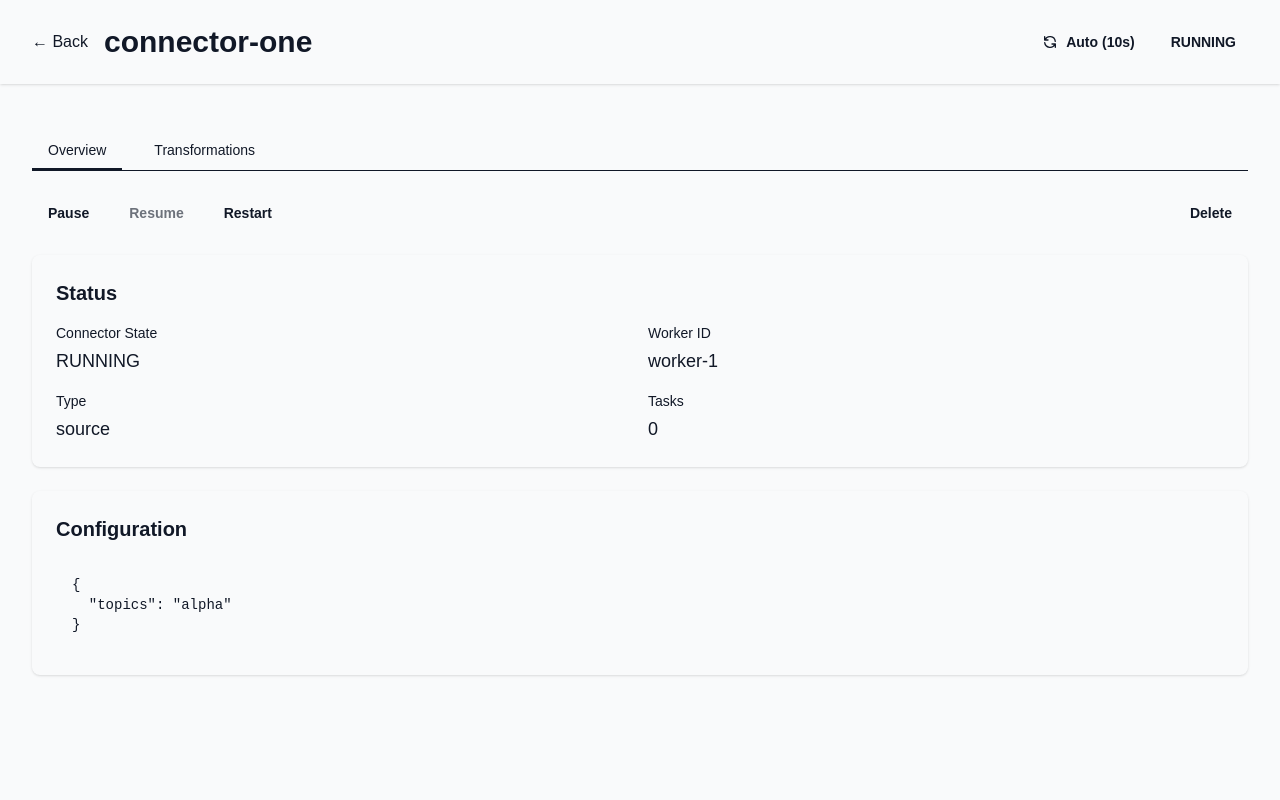
Test: ConnectorDetail page › schedules a refresh after successful actions
Expected: the text "Connector State" is shown, [56,325,157,341]
Step 1. Click the button "Pause" → [69, 213], box [32,195,105,231]
Wait 1000 ms
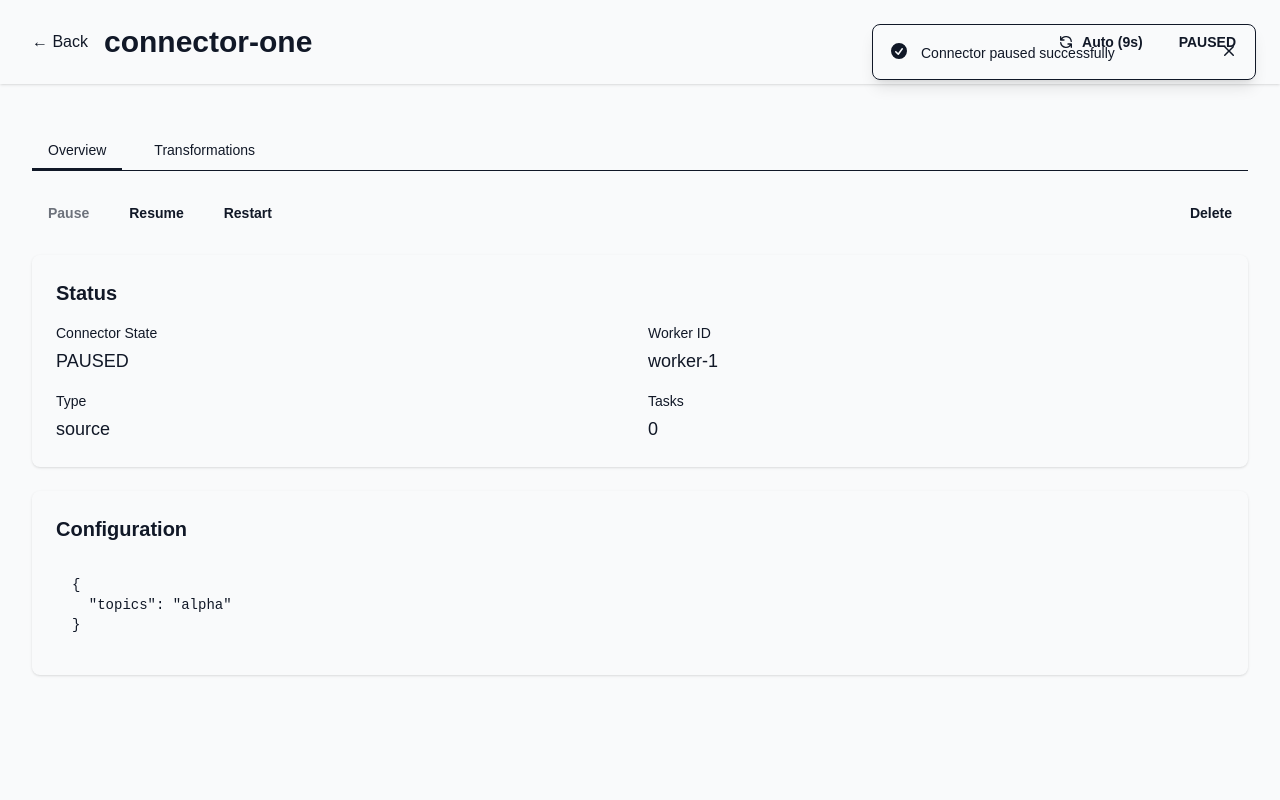
Expected: the text "PAUSED" in the row of "connector-one" is shown, [1179,34,1236,50]
Step 2. Click the button "Restart" → [248, 213], box [208,195,288,231]
Wait 1000 ms
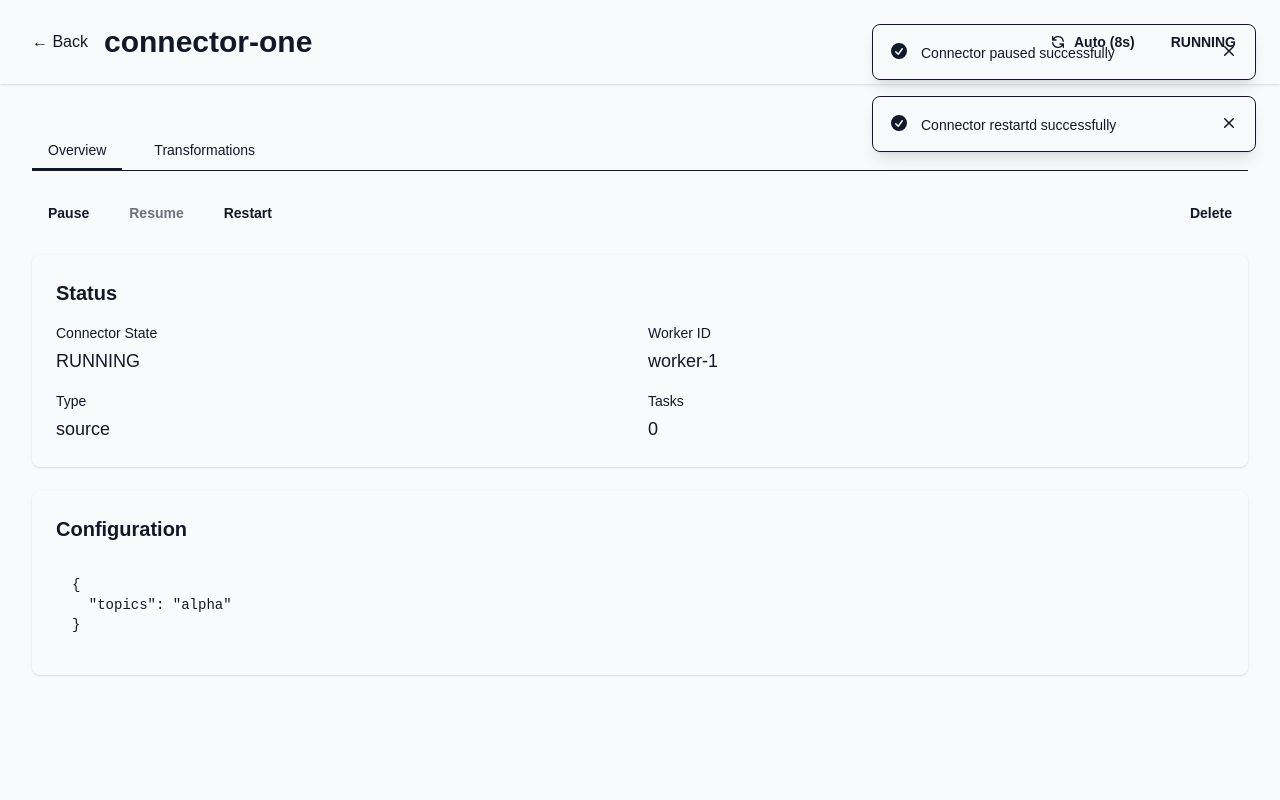
Expected: the text "RUNNING" in the row of "connector-one" is shown, [1171,34,1236,50]
